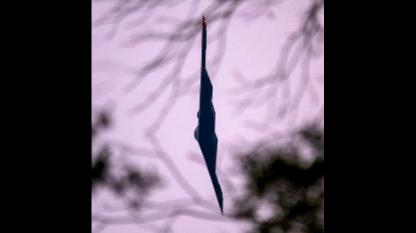B1: (194, 14, 224, 218)
